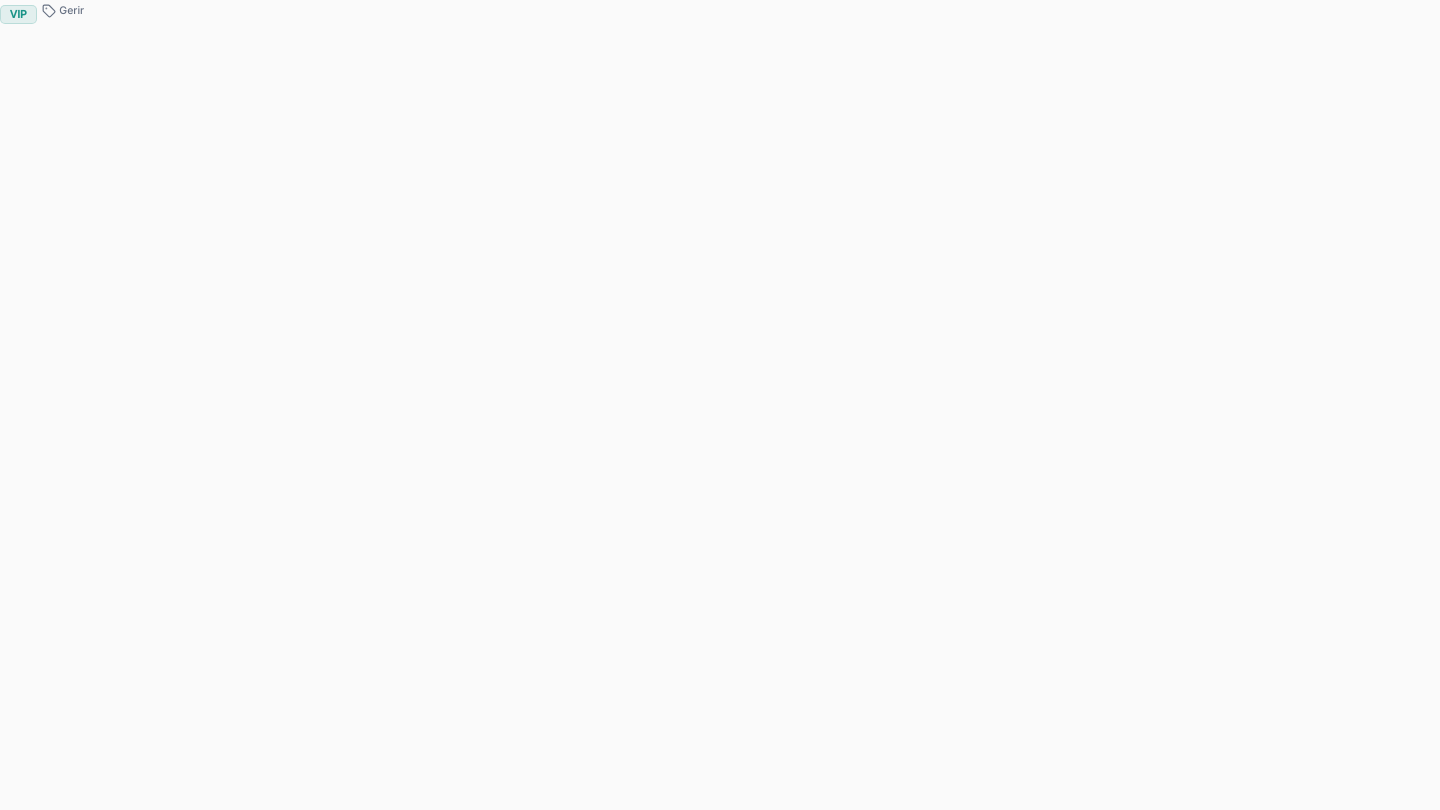
Test case: ProcessLabelsEditor — cancelar › reabrir parte do que está gravado, não do rascunho abandonado
This screenshot has width=1440, height=810.
Click the button with test id "abrir-etiquetas" at (63, 10), box [36,0,89,21]
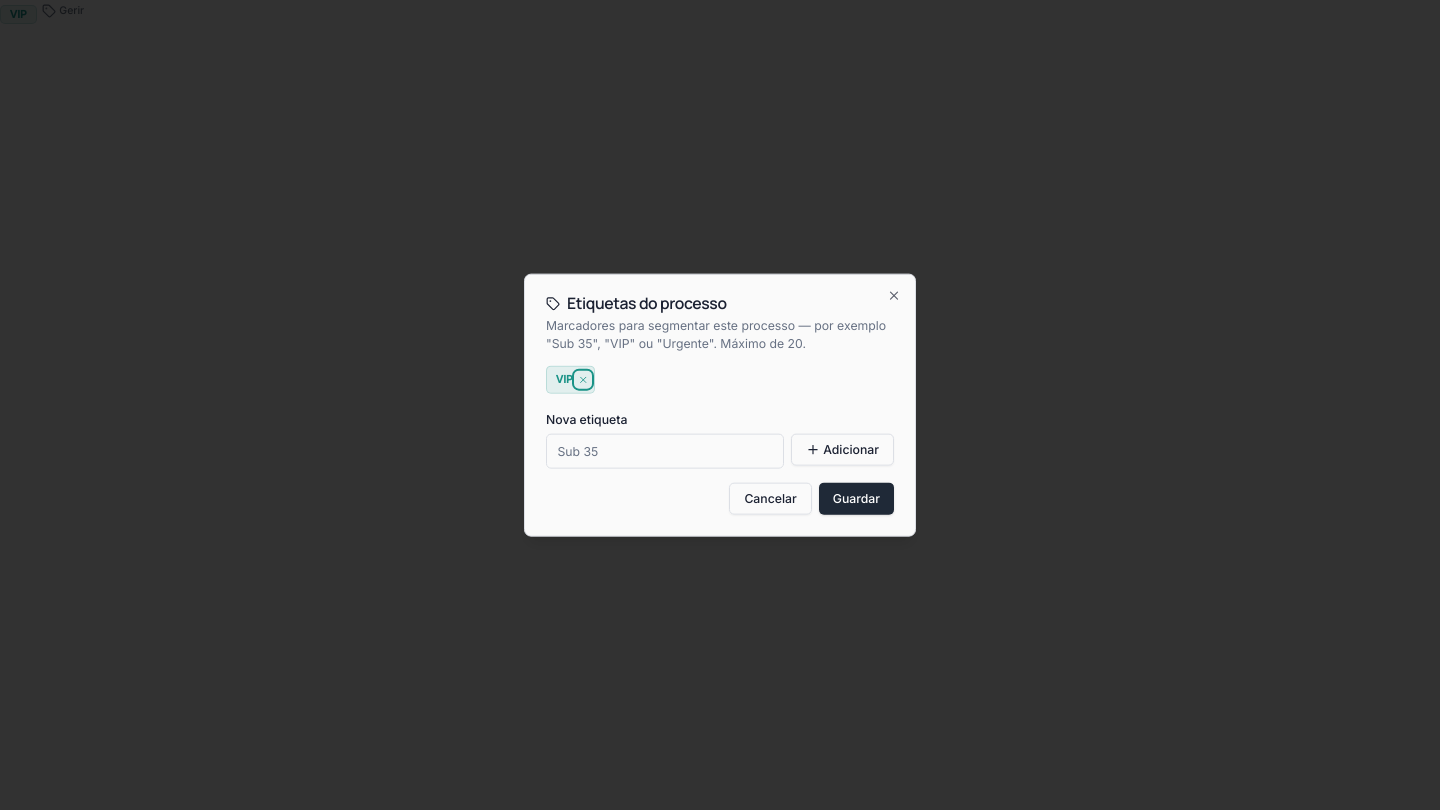
Click the button named "Remover etiqueta VIP" at (583, 380), box [576,373,590,387]
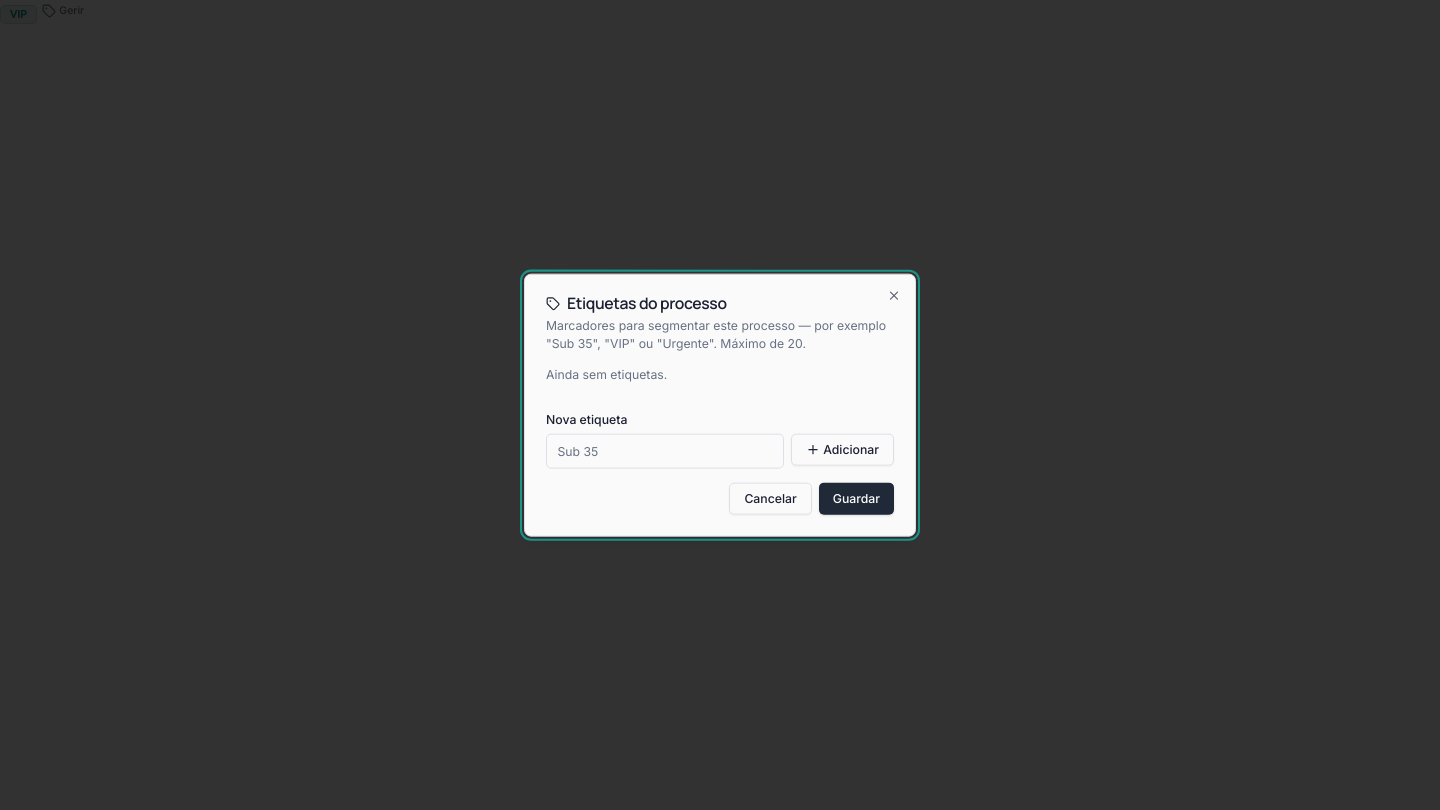
Click the button "Cancelar" at (771, 499), box [729,483,812,514]
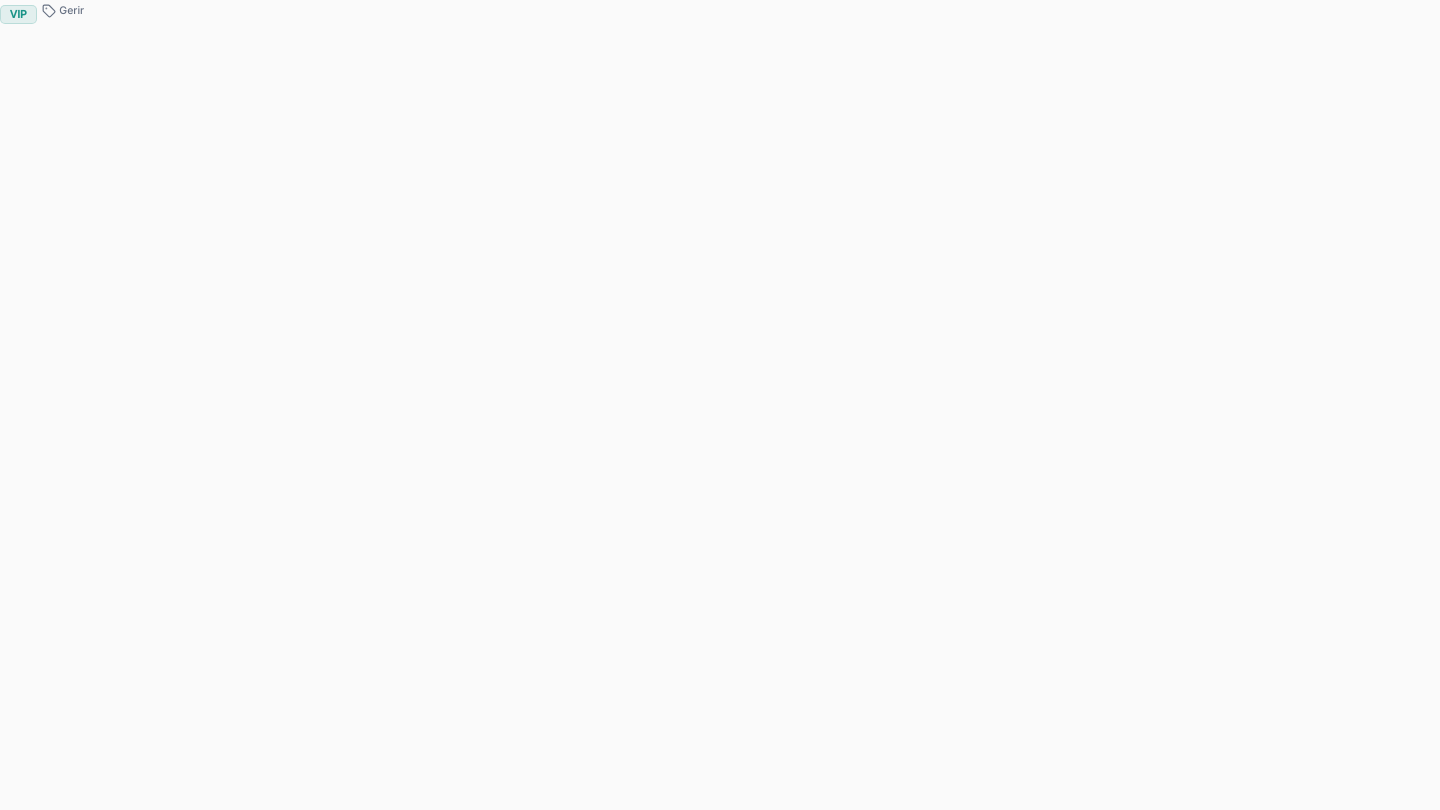
Click the button with test id "abrir-etiquetas" at (63, 10), box [36,0,89,21]
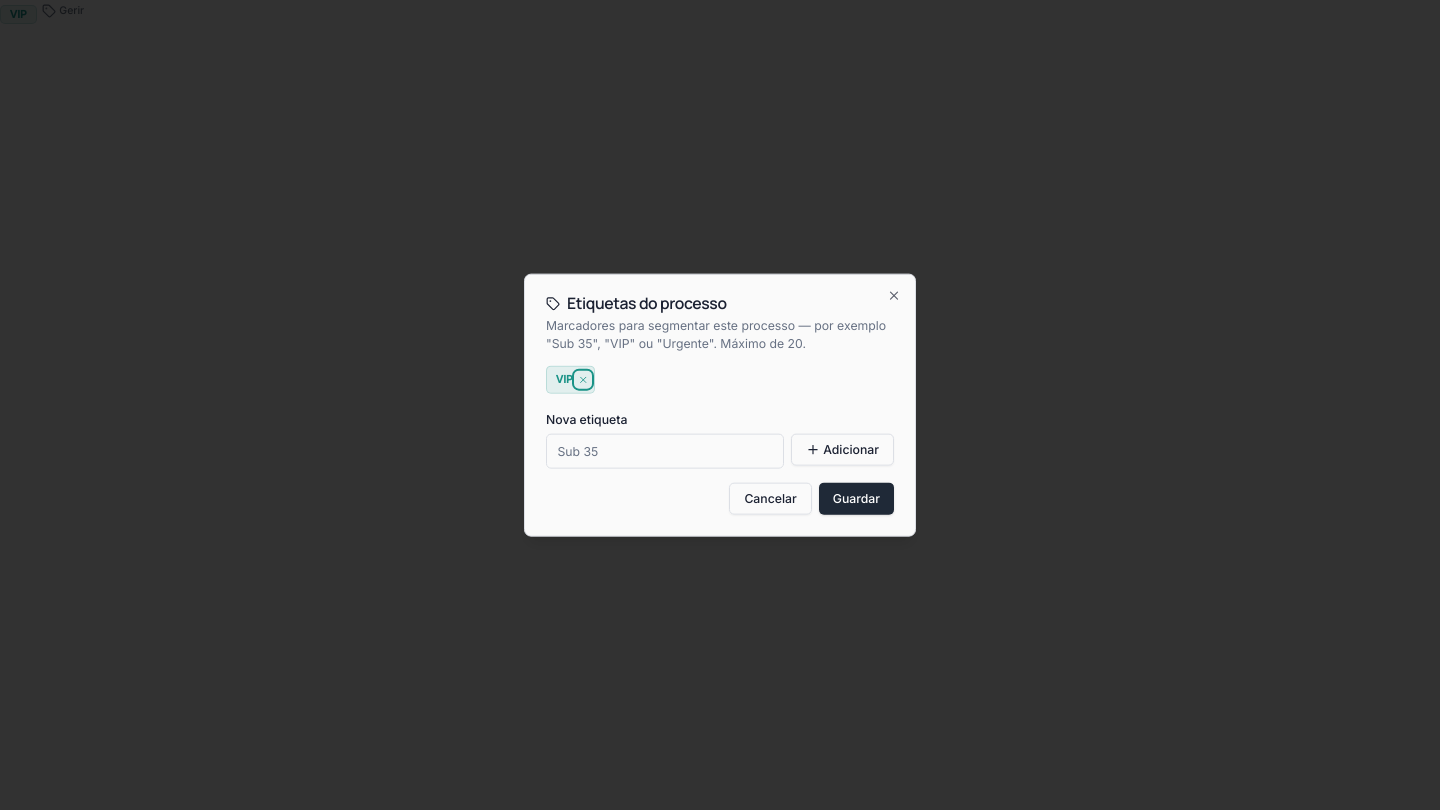
Check: the button named "Remover etiqueta VIP" is shown, box [576,373,590,387]
